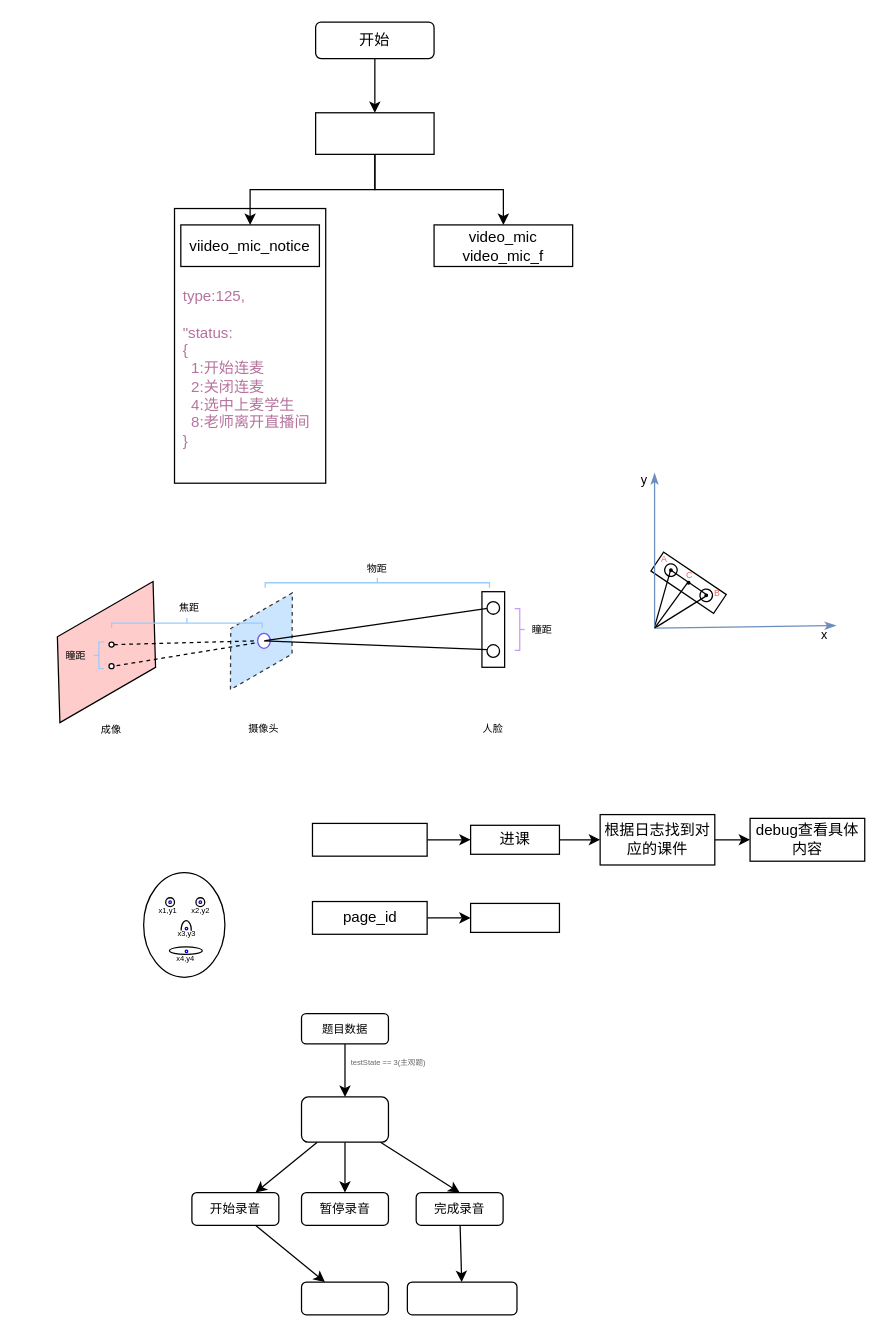
Some shapes in this 887 by 1337 pixel diagram are drawn without their labels. Here are the shapes that lost their labels. From the top down, the centre of each, then its label:
At [374,133]: "老师发起连麦".
At [369,839]: "编译工程".
At [514,917]: "查询".
At [344,1119]: "显示拍照和语音按钮".
At [344,1298]: "写本地".
At [461,1298]: "显示我的录音".
